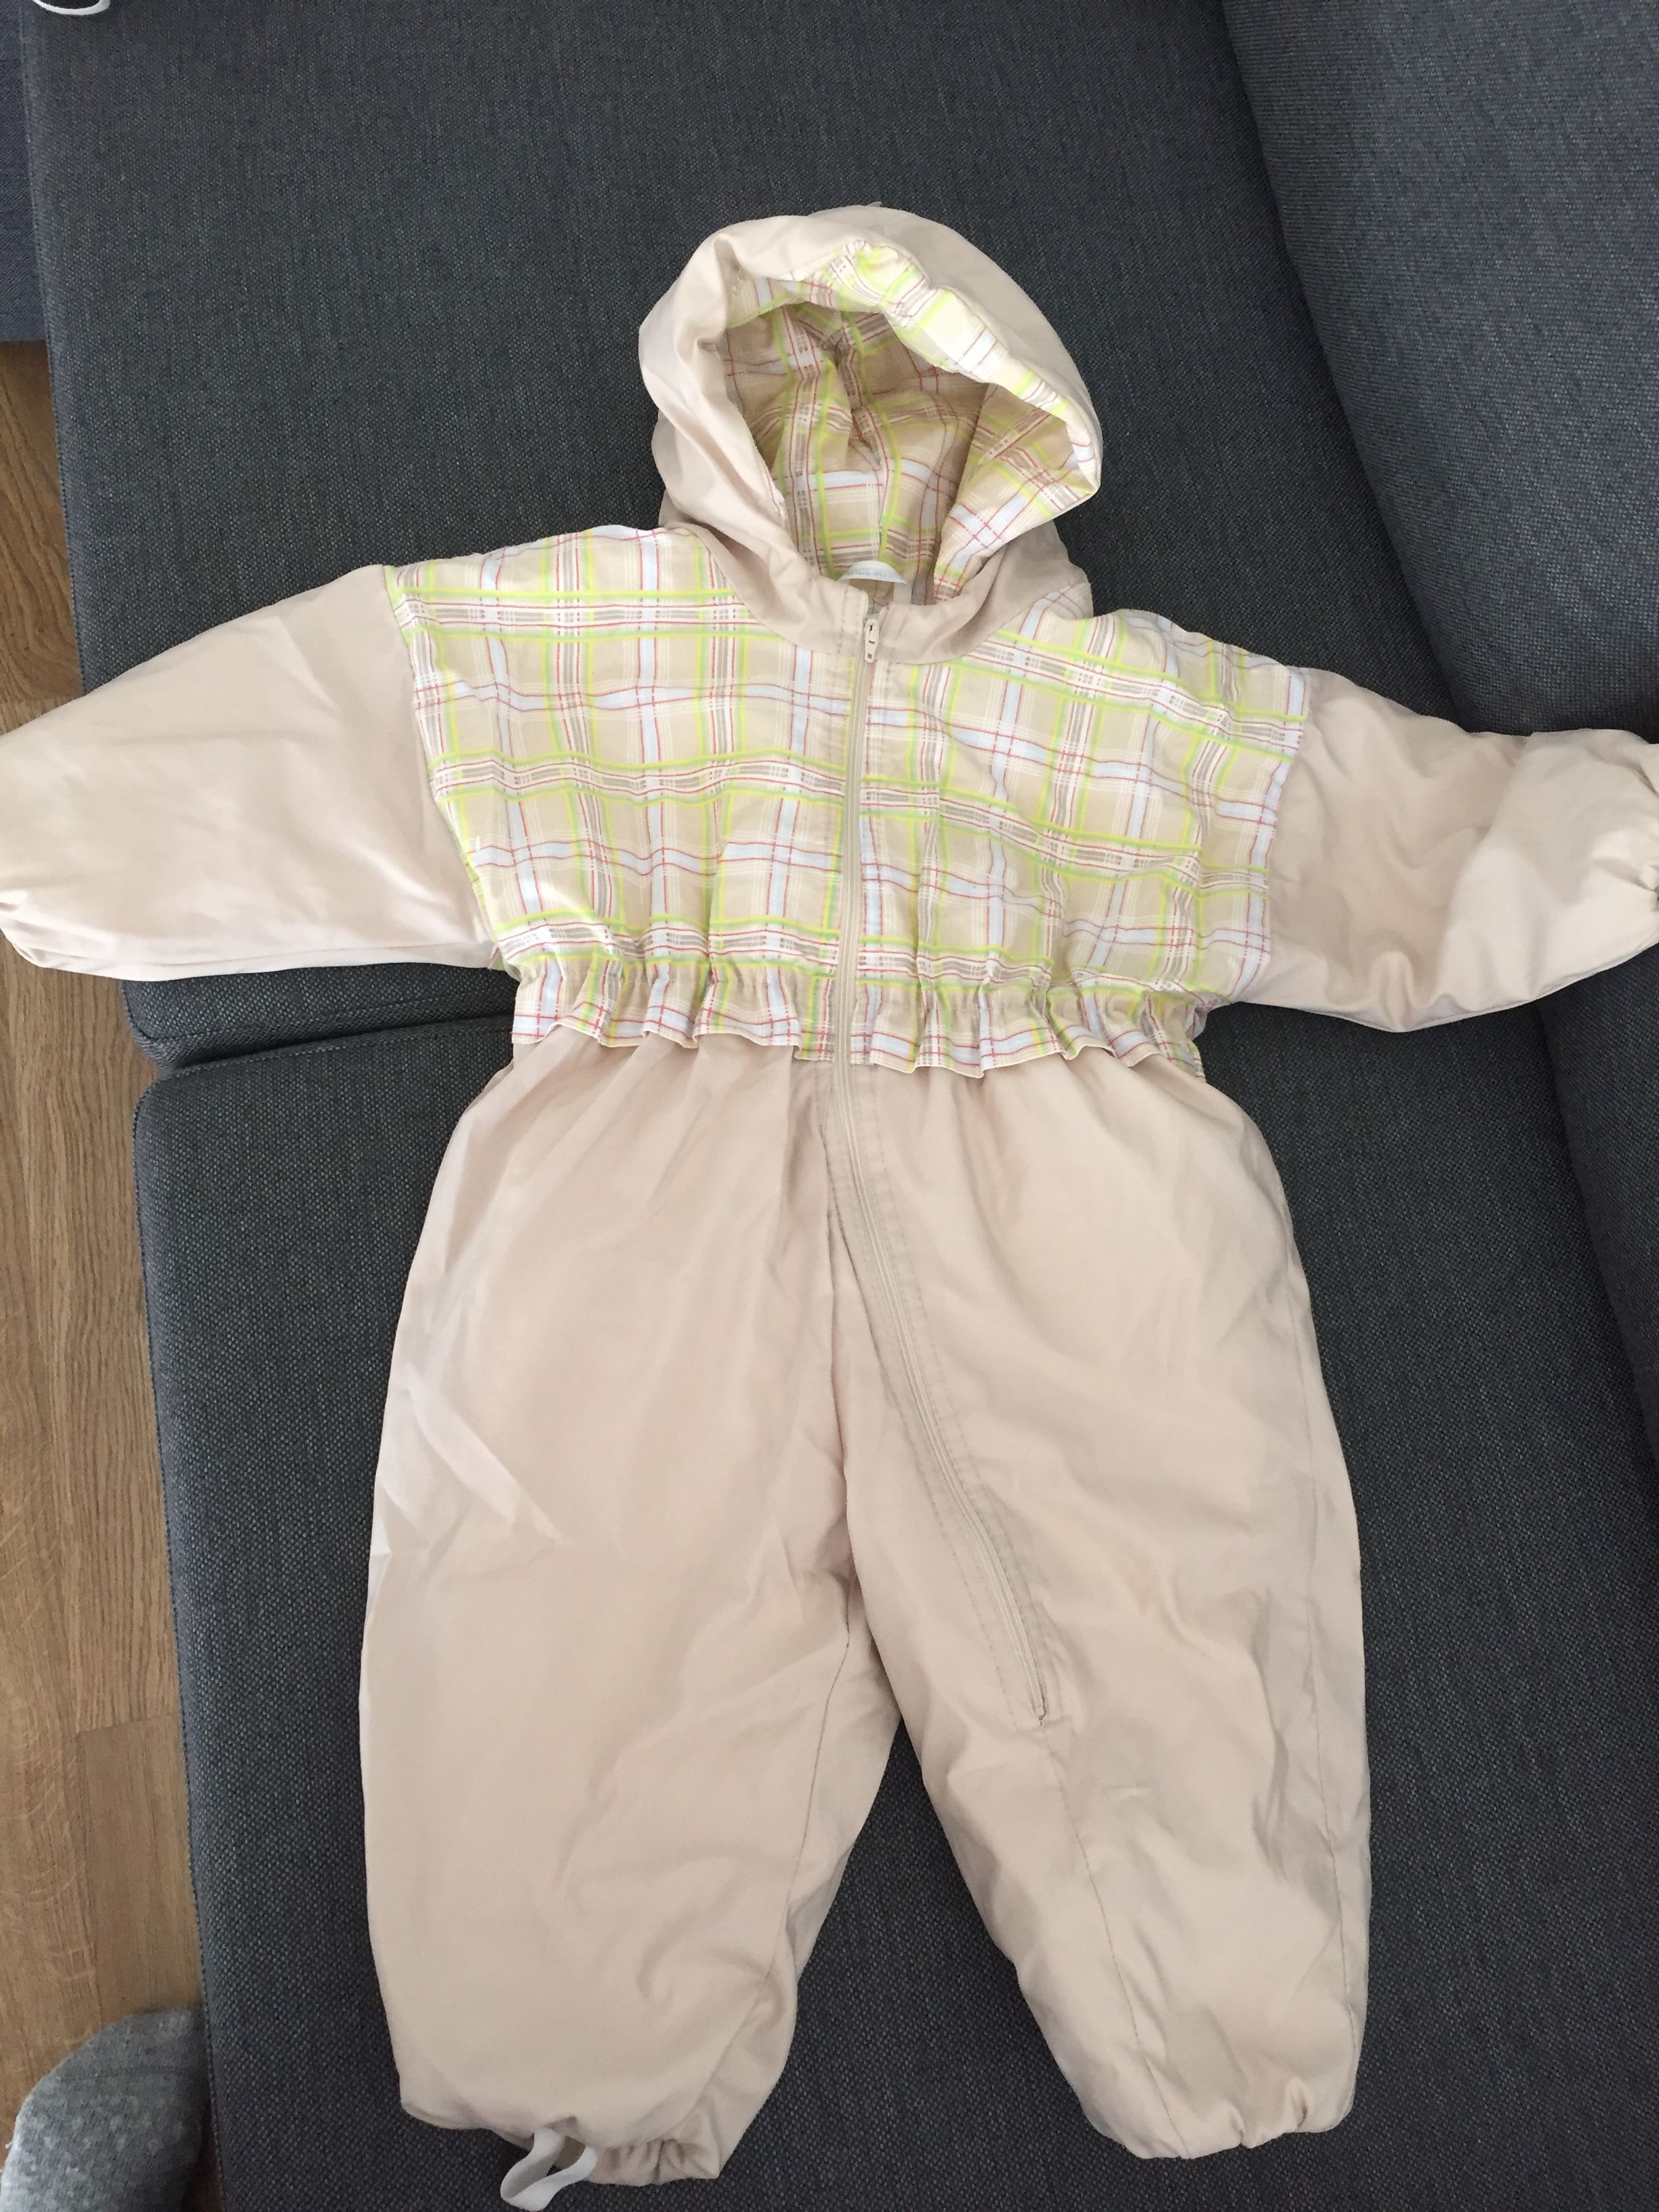clothes: (44, 193, 1659, 2191)
